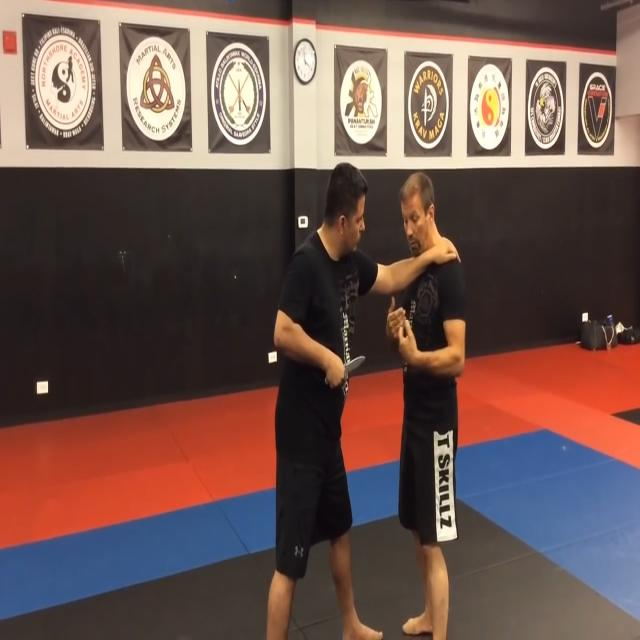knife: (341, 353, 367, 381)
